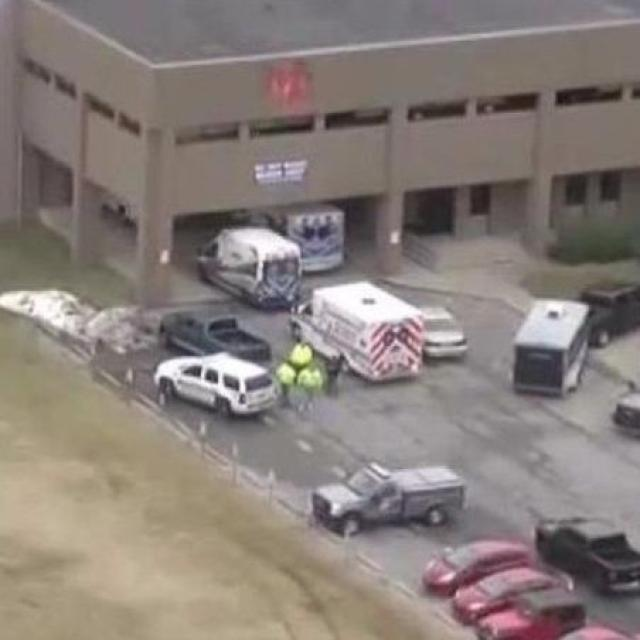traffic_incident: (9, 272, 318, 412)
